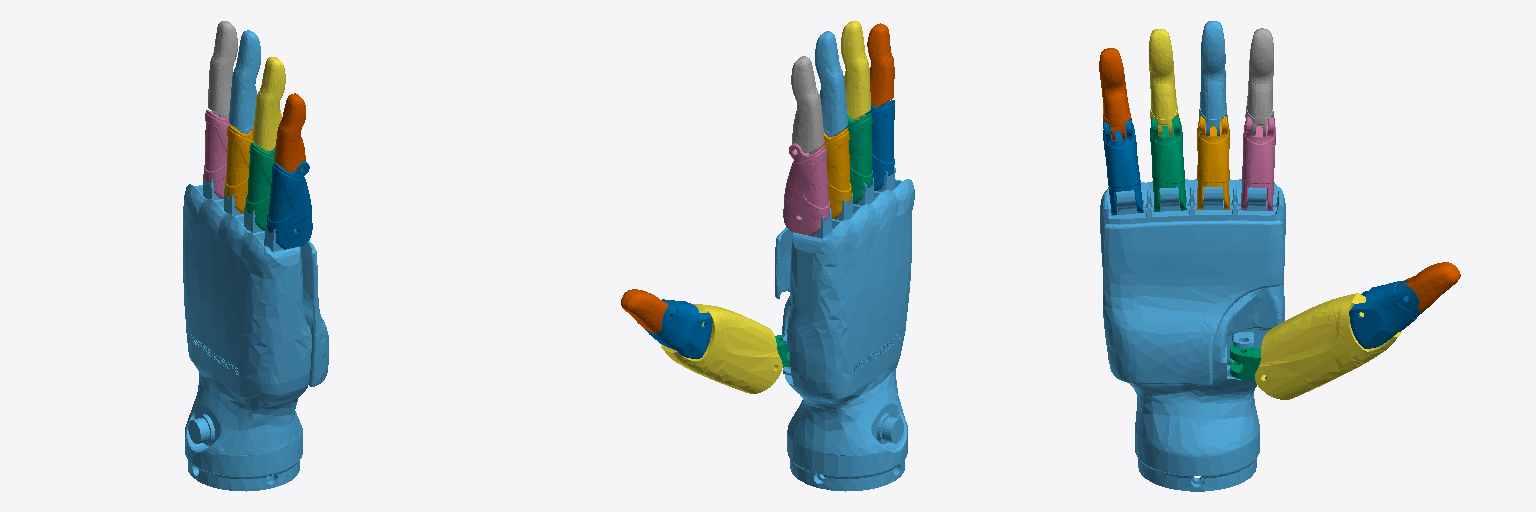
The robot description file, URDF, robot "inspire_hand_right":
<?xml version="1.0" encoding="utf-8"?>
<robot name="inspire_hand_right">
  <link name="base"/>
  <joint name="base_joint" type="fixed">
    <parent link="base"/>
    <child link="hand_base_link"/>
    <origin xyz="0 0 0" rpy="-1.57079 0 3.14159"/>
    <!-- <origin xyz="-0.04 0.01 0.0" rpy="0 1.14079 1.57079"/> -->
    <!-- <origin xyz="-0.05 0.01 0.0" rpy="3.14159 1.27079 -1.47079"/> -->
  </joint>
  <link name="hand_base_link">
    <parent link="base"/>
    <inertial>
      <origin xyz="-0.0025264 -0.066047 0.0019598" rpy="0 0 0"/>
      <mass value="0.14143"/>
      <inertia ixx="0.00012281" ixy="2.1711E-06" ixz="1.7709E-06" iyy="8.3832E-05" iyz="-1.6551E-06" izz="7.6663E-05"/>
    </inertial>
    <visual>
      <origin xyz="0 0 0" rpy="0 0 0"/>
      <geometry>
        <mesh filename="meshes/visual/right_base_link.obj"/>
      </geometry>
    </visual>
    <collision>
      <origin xyz="0 -0.0136 0" rpy="1.57079 0 0"/>
      <geometry>
        <cylinder length="0.0278" radius="0.028"/>
      </geometry>
    </collision>
    <collision>
      <origin xyz="-0.0032 -0.038 0" rpy="0 0 0"/>
      <geometry>
        <box size="0.0391 0.0202 0.0574"/>
      </geometry>
    </collision>
    <collision>
      <origin xyz="-0.0032 -0.0682 0" rpy="0 0 0"/>
      <geometry>
        <box size="0.0391 0.04 0.0814"/>
      </geometry>
    </collision>
    <collision>
      <origin xyz="0 -0.1081 0" rpy="0 0 0"/>
      <geometry>
        <box size="0.0322 0.04 0.0814"/>
      </geometry>
    </collision>
    <collision>
      <origin xyz="-0.0016 -0.1340 0.0309" rpy="0 0 0"/>
      <geometry>
        <box size="0.0125 0.0111 0.0089"/>
      </geometry>
    </collision>
    <collision>
      <origin xyz="-0.0016 -0.1340 0.0118" rpy="0 0 0"/>
      <geometry>
        <box size="0.0125 0.0111 0.0089"/>
      </geometry>
    </collision>
    <collision>
      <origin xyz="-0.0016 -0.1340 -0.0070" rpy="0 0 0"/>
      <geometry>
        <box size="0.0125 0.0111 0.0089"/>
      </geometry>
    </collision>
    <collision>
      <origin xyz="-0.0016 -0.1340 -0.0262" rpy="0 0 0"/>
      <geometry>
        <box size="0.0125 0.0111 0.0089"/>
      </geometry>
    </collision>
  </link>
  <link name="thumb_proximal_base">
    <inertial>
      <origin xyz="-0.0048064 0.0009382 -0.00757" rpy="0 0 0"/>
      <mass value="0.0018869"/>
      <inertia ixx="5.816E-08" ixy="1.4539E-08" ixz="4.491E-09" iyy="7.9161E-08" iyz="-1.8727E-09" izz="6.7433E-08"/>
    </inertial>
    <visual>
      <origin xyz="0 0 0" rpy="0 0 0"/>
      <geometry>
        <mesh filename="meshes/visual/right_thumb_proximal_base.obj"/>
      </geometry>
    </visual>
    <collision>
      <origin xyz="0 0 0" rpy="0 0 0"/>
      <geometry>
        <mesh filename="meshes/collision/right_thumb_proximal_base.obj"/>
      </geometry>
    </collision>
  </link>
  <joint name="thumb_proximal_yaw_joint" type="revolute">
    <origin xyz="-0.01696 -0.0691 -0.02045" rpy="1.5708 -1.5708 0"/>
    <parent link="hand_base_link"/>
    <child link="thumb_proximal_base"/>
    <axis xyz="0 0 -1"/>
    <limit lower="0.0" upper="1.308" effort="1" velocity="0.5"/>
  </joint>
  <link name="thumb_proximal">
    <inertial>
      <origin xyz="0.021932 0.012785 -0.0080386" rpy="0 0 0"/>
      <mass value="0.0066075"/>
      <inertia ixx="1.5686E-06" ixy="-7.8296E-07" ixz="8.9143E-10" iyy="1.7353E-06" iyz="-1.0191E-09" izz="2.786E-06"/>
    </inertial>
    <visual>
      <origin xyz="0 0 0" rpy="0 0 0"/>
      <geometry>
        <mesh filename="meshes/visual/right_thumb_proximal.obj"/>
      </geometry>
    </visual>
    <collision>
      <origin xyz="0 0 0" rpy="0 0 0"/>
      <geometry>
        <mesh filename="meshes/collision/right_thumb_proximal.obj"/>
      </geometry>
    </collision>
  </link>
  <joint name="thumb_proximal_pitch_joint" type="revolute">
    <origin xyz="-0.0088099 0.010892 -0.00925" rpy="1.5708 0 2.8587"/>
    <parent link="thumb_proximal_base"/>
    <child link="thumb_proximal"/>
    <axis xyz="0 0 1"/>
    <limit lower="0" upper="0.6" effort="1" velocity="0.5"/>
  </joint>
  <link name="thumb_intermediate">
    <inertial>
      <origin xyz="0.0095544 -0.0016282 -0.0071997" rpy="0 0 0"/>
      <mass value="0.0037847"/>
      <inertia ixx="3.6981E-07" ixy="-9.8581E-08" ixz="-4.7469E-12" iyy="3.2394E-07" iyz="1.0939E-12" izz="4.6531E-07"/>
    </inertial>
    <visual>
      <origin xyz="0 0 0" rpy="0 0 0"/>
      <geometry>
        <mesh filename="meshes/visual/right_thumb_intermediate.obj"/>
      </geometry>
    </visual>
    <collision>
      <origin xyz="0 0 0" rpy="0 0 0"/>
      <geometry>
        <mesh filename="meshes/collision/right_thumb_intermediate.obj"/>
      </geometry>
    </collision>
  </link>
  <joint name="thumb_intermediate_joint" type="revolute">
    <origin xyz="0.04407 0.034553 -0.0008" rpy="0 0 0"/>
    <parent link="thumb_proximal"/>
    <child link="thumb_intermediate"/>
    <axis xyz="0 0 1"/>
    <limit lower="0" upper="0.8" effort="1" velocity="0.5"/>
    <mimic joint="thumb_proximal_pitch_joint" multiplier="1.334" offset="0"/>
  </joint>
  <link name="thumb_distal">
    <inertial>
      <origin xyz="0.0092888 0.0049529 -0.0060033" rpy="0 0 0"/>
      <mass value="0.0033441"/>
      <inertia ixx="1.3632E-07" ixy="-5.6788E-08" ixz="-9.2764E-11" iyy="1.4052E-07" iyz="-1.2283E-10" izz="2.0026E-07"/>
    </inertial>
    <visual>
      <origin xyz="0 0 0" rpy="0 0 0"/>
      <geometry>
        <mesh filename="meshes/visual/right_thumb_distal.obj"/>
      </geometry>
    </visual>
    <collision>
      <origin xyz="0 0 0" rpy="0 0 0"/>
      <geometry>
        <mesh filename="meshes/collision/right_thumb_distal.obj"/>
      </geometry>
    </collision>
  </link>
  <joint name="thumb_distal_joint" type="revolute">
    <origin xyz="0.020248 0.010156 -0.0012" rpy="0 0 0"/>
    <parent link="thumb_intermediate"/>
    <child link="thumb_distal"/>
    <axis xyz="0 0 1"/>
    <limit lower="0" upper="0.4" effort="1" velocity="0.5"/>
    <mimic joint="thumb_proximal_pitch_joint" multiplier="0.667" offset="0"/>
  </joint>
  <link name="index_proximal">
    <inertial>
      <origin xyz="0.0012259 0.011942 -0.0060001" rpy="0 0 0"/>
      <mass value="0.0042403"/>
      <inertia ixx="6.6232E-07" ixy="-1.5775E-08" ixz="1.8515E-12" iyy="2.1146E-07" iyz="-5.0828E-12" izz="6.9398E-07"/>
    </inertial>
    <visual>
      <origin xyz="0 0 0" rpy="0 0 0"/>
      <geometry>
        <mesh filename="meshes/visual/right_index_proximal.obj"/>
      </geometry>
    </visual>
    <collision>
      <origin xyz="0 0 0" rpy="0 0 0"/>
      <geometry>
        <mesh filename="meshes/collision/right_index_proximal.obj"/>
      </geometry>
    </collision>
  </link>
  <joint name="index_proximal_joint" type="revolute">
    <origin xyz="0.00028533 -0.13653 -0.032268" rpy="-3.1067 0 0"/>
    <parent link="hand_base_link"/>
    <child link="index_proximal"/>
    <axis xyz="0 0 1"/>
    <limit lower="0" upper="1.47" effort="1" velocity="0.5"/>
  </joint>
  <link name="index_intermediate">
    <inertial>
      <origin xyz="0.0019697 0.019589 -0.005" rpy="0 0 0"/>
      <mass value="0.0045683"/>
      <inertia ixx="7.6111E-07" ixy="8.7637E-08" ixz="-3.7751E-13" iyy="9.6076E-08" iyz="9.9444E-13" izz="7.8179E-07"/>
    </inertial>
    <visual>
      <origin xyz="0 0 0" rpy="0 0 0"/>
      <geometry>
        <mesh filename="meshes/visual/right_index_intermediate.obj"/>
      </geometry>
    </visual>
    <collision>
      <origin xyz="0 0 0" rpy="0 0 0"/>
      <geometry>
        <mesh filename="meshes/collision/right_index_intermediate.obj"/>
      </geometry>
    </collision>
  </link>
  <joint name="index_intermediate_joint" type="revolute">
    <origin xyz="-0.0026138 0.032026 -0.001" rpy="0 0 0"/>
    <parent link="index_proximal"/>
    <child link="index_intermediate"/>
    <axis xyz="0 0 1"/>
    <limit lower="-0.04545" upper="1.56" effort="1" velocity="0.5"/>
    <mimic joint="index_proximal_joint" multiplier="1.06399" offset="-0.04545"/>
  </joint>
  <link name="middle_proximal">
    <inertial>
      <origin xyz="0.001297 0.011934 -0.0060001" rpy="0 0 0"/>
      <mass value="0.0042403"/>
      <inertia ixx="6.6211E-07" ixy="-1.8461E-08" ixz="1.8002E-12" iyy="2.1167E-07" iyz="-6.6808E-12" izz="6.9397E-07"/>
    </inertial>
    <visual>
      <origin xyz="0 0 0" rpy="0 0 0"/>
      <geometry>
        <mesh filename="meshes/visual/right_index_proximal.obj"/>
      </geometry>
    </visual>
    <collision>
      <origin xyz="0 0 0" rpy="0 0 0"/>
      <geometry>
        <mesh filename="meshes/collision/right_index_proximal.obj"/>
      </geometry>
    </collision>
  </link>
  <joint name="middle_proximal_joint" type="revolute">
    <origin xyz="0.00028533 -0.1371 -0.01295" rpy="-3.1416 0 0"/>
    <parent link="hand_base_link"/>
    <child link="middle_proximal"/>
    <axis xyz="0 0 1"/>
    <limit lower="0" upper="1.47" effort="1" velocity="0.5"/>
  </joint>
  <link name="middle_intermediate">
    <inertial>
      <origin xyz="0.001921 0.020796 -0.005" rpy="0 0 0"/>
      <mass value="0.0050396"/>
      <inertia ixx="9.5822E-07" ixy="1.1425E-07" ixz="-2.4791E-12" iyy="1.0646E-07" iyz="5.9173E-12" izz="9.8384E-07"/>
    </inertial>
    <visual>
      <origin xyz="0 0 0" rpy="0 0 0"/>
      <geometry>
        <mesh filename="meshes/visual/right_middle_intermediate.obj"/>
      </geometry>
    </visual>
    <collision>
      <origin xyz="0 0 0" rpy="0 0 0"/>
      <geometry>
        <mesh filename="meshes/collision/right_middle_intermediate.obj"/>
      </geometry>
    </collision>
  </link>
  <joint name="middle_intermediate_joint" type="revolute">
    <origin xyz="-0.0024229 0.032041 -0.001" rpy="0 0 0"/>
    <parent link="middle_proximal"/>
    <child link="middle_intermediate"/>
    <axis xyz="0 0 1"/>
    <limit lower="-0.04545" upper="1.56" effort="1" velocity="0.5"/>
    <mimic joint="middle_proximal_joint" multiplier="1.06399" offset="-0.04545"/>
  </joint>
  <link name="ring_proximal">
    <inertial>
      <origin xyz="0.001297 0.011934 -0.0060002" rpy="0 0 0"/>
      <mass value="0.0042403"/>
      <inertia ixx="6.6211E-07" ixy="-1.8461E-08" ixz="1.5793E-12" iyy="2.1167E-07" iyz="-6.6868E-12" izz="6.9397E-07"/>
    </inertial>
    <visual>
      <origin xyz="0 0 0" rpy="0 0 0"/>
      <geometry>
        <mesh filename="meshes/visual/right_index_proximal.obj"/>
      </geometry>
    </visual>
    <collision>
      <origin xyz="0 0 0" rpy="0 0 0"/>
      <geometry>
        <mesh filename="meshes/collision/right_index_proximal.obj"/>
      </geometry>
    </collision>
  </link>
  <joint name="ring_proximal_joint" type="revolute">
    <origin xyz="0.00028533 -0.13691 0.0062872" rpy="3.0892 0 0"/>
    <parent link="hand_base_link"/>
    <child link="ring_proximal"/>
    <axis xyz="0 0 1"/>
    <limit lower="0" upper="1.47" effort="1" velocity="0.5"/>
  </joint>
  <link name="ring_intermediate">
    <inertial>
      <origin xyz="0.0021753 0.019567 -0.005" rpy="0 0 0"/>
      <mass value="0.0045683"/>
      <inertia ixx="7.6286E-07" ixy="8.0635E-08" ixz="-6.1562E-13" iyy="9.431E-08" iyz="5.8619E-13" izz="7.8177E-07"/>
    </inertial>
    <visual>
      <origin xyz="0 0 0" rpy="0 0 0"/>
      <geometry>
        <mesh filename="meshes/visual/right_index_intermediate.obj"/>
      </geometry>
    </visual>
    <collision>
      <origin xyz="0 0 0" rpy="0 0 0"/>
      <geometry>
        <mesh filename="meshes/collision/right_index_intermediate.obj"/>
      </geometry>
    </collision>
  </link>
  <joint name="ring_intermediate_joint" type="revolute">
    <origin xyz="-0.0024229 0.032041 -0.001" rpy="0 0 0"/>
    <parent link="ring_proximal"/>
    <child link="ring_intermediate"/>
    <axis xyz="0 0 1"/>
    <limit lower="-0.04545" upper="1.56" effort="1" velocity="0.5"/>
    <mimic joint="ring_proximal_joint" multiplier="1.06399" offset="-0.04545"/>
  </joint>
  <link name="pinky_proximal">
    <inertial>
      <origin xyz="0.001297 0.011934 -0.0060001" rpy="0 0 0"/>
      <mass value="0.0042403"/>
      <inertia ixx="6.6211E-07" ixy="-1.8461E-08" ixz="1.6907E-12" iyy="2.1167E-07" iyz="-6.9334E-12" izz="6.9397E-07"/>
    </inertial>
    <visual>
      <origin xyz="0 0 0" rpy="0 0 0"/>
      <geometry>
        <mesh filename="meshes/visual/right_index_proximal.obj"/>
      </geometry>
    </visual>
    <collision>
      <origin xyz="0 0 0" rpy="0 0 0"/>
      <geometry>
        <mesh filename="meshes/collision/right_index_proximal.obj"/>
      </geometry>
    </collision>
  </link>
  <joint name="pinky_proximal_joint" type="revolute">
    <origin xyz="0.00028533 -0.13571 0.025488" rpy="3.0369 0 0"/>
    <parent link="hand_base_link"/>
    <child link="pinky_proximal"/>
    <axis xyz="0 0 1"/>
    <limit lower="0" upper="1.47" effort="1" velocity="0.5"/>
  </joint>
  <link name="pinky_intermediate">
    <inertial>
      <origin xyz="0.0024748 0.016203 -0.0050031" rpy="0 0 0"/>
      <mass value="0.0035996"/>
      <inertia ixx="4.3913E-07" ixy="4.1418E-08" ixz="3.7168E-11" iyy="7.0247E-08" iyz="5.8613E-11" izz="4.4867E-07"/>
    </inertial>
    <visual>
      <origin xyz="0 0 0" rpy="0 0 0"/>
      <geometry>
        <mesh filename="meshes/visual/right_pinky_intermediate.obj"/>
      </geometry>
    </visual>
    <collision>
      <origin xyz="0 0 0" rpy="0 0 0"/>
      <geometry>
        <mesh filename="meshes/collision/right_pinky_intermediate.obj"/>
      </geometry>
    </collision>
  </link>
  <joint name="pinky_intermediate_joint" type="revolute">
    <origin xyz="-0.0024229 0.032041 -0.001" rpy="0 0 0"/>
    <parent link="pinky_proximal"/>
    <child link="pinky_intermediate"/>
    <axis xyz="0 0 1"/>
    <limit lower="-0.04545" upper="1.56" effort="1" velocity="0.5"/>
    <mimic joint="pinky_proximal_joint" multiplier="1.06399" offset="-0.04545"/>
  </joint>

  <link name='thumb_tip'/>
  <joint name="thumb_tip_joint" type="fixed">
    <origin xyz="0.0202 0.0140 -0.006" rpy="0 0 0"/>
    <parent link="thumb_distal"/>
    <child link="thumb_tip"/>
  </joint>
  <link name='index_tip'/>
  <joint name="index_tip_joint" type="fixed">
    <origin xyz="-0.0008 0.045 -0.005" rpy="0 0 0"/>
    <parent link="index_intermediate"/>
    <child link="index_tip"/>
  </joint>
  <link name='middle_tip'/>
  <joint name="middle_tip_joint" type="fixed">
    <origin xyz="-0.001 0.048 -0.005" rpy="0 0 0"/>
    <parent link="middle_intermediate"/>
    <child link="middle_tip"/>
  </joint>
  <link name='ring_tip'/>
  <joint name="ring_tip_joint" type="fixed">
    <origin xyz="-0.0008 0.045 -0.005" rpy="0 0 0"/>
    <parent link="ring_intermediate"/>
    <child link="ring_tip"/>
  </joint>
  <link name='pinky_tip'/>
  <joint name="pinky_tip_joint" type="fixed">
    <origin xyz="-0.0008 0.037 -0.005" rpy="0 0 0"/>
    <parent link="pinky_intermediate"/>
    <child link="pinky_tip"/>
  </joint>
</robot>

--- What the picture shows (computed from the rendered views, not written in the file) ---
The picture shows the robot from 3 angles, left to right: view 1: azimuth 30°, elevation 25°; view 2: azimuth 150°, elevation 25°; view 3: azimuth 270°, elevation 25°; orthographic projection.
Model inspire_hand_right with 19 links and 18 joints (12 revolute, 6 fixed), rooted at base, posed every joint at zero.
Visible links, largest first — view 1: hand_base_link, pinky_proximal, middle_intermediate, ring_intermediate, index_intermediate, pinky_intermediate, ring_proximal, middle_proximal, index_proximal; view 2: hand_base_link, thumb_proximal, index_proximal, thumb_intermediate, middle_intermediate, index_intermediate, ring_intermediate, pinky_intermediate, ring_proximal, middle_proximal, pinky_proximal, thumb_distal; view 3: hand_base_link, thumb_proximal, thumb_intermediate, middle_intermediate, ring_intermediate, index_intermediate, ring_proximal, index_proximal, pinky_proximal, middle_proximal, pinky_intermediate, thumb_distal (+1 smaller).
Link boxes in pixels (left/top/right/bottom): hand_base_link: left=183, top=174, right=328, bottom=491; pinky_proximal: left=267, top=161, right=312, bottom=249; middle_intermediate: left=229, top=30, right=260, bottom=133; ring_intermediate: left=252, top=57, right=285, bottom=150; index_intermediate: left=208, top=21, right=237, bottom=116; pinky_intermediate: left=274, top=93, right=305, bottom=172; ring_proximal: left=246, top=142, right=275, bottom=230; middle_proximal: left=225, top=125, right=253, bottom=213; index_proximal: left=204, top=110, right=231, bottom=198; hand_base_link: left=775, top=166, right=914, bottom=491; thumb_proximal: left=661, top=304, right=782, bottom=393; index_proximal: left=783, top=143, right=829, bottom=235; thumb_intermediate: left=645, top=299, right=712, bottom=358; middle_intermediate: left=815, top=31, right=847, bottom=136; index_intermediate: left=791, top=56, right=824, bottom=153; ring_intermediate: left=841, top=21, right=870, bottom=119; pinky_intermediate: left=867, top=23, right=894, bottom=106; ring_proximal: left=845, top=113, right=872, bottom=203; middle_proximal: left=822, top=128, right=851, bottom=218; pinky_proximal: left=866, top=100, right=894, bottom=190; thumb_distal: left=621, top=289, right=670, bottom=333; hand_base_link: left=1100, top=179, right=1285, bottom=491; thumb_proximal: left=1255, top=293, right=1401, bottom=399; thumb_intermediate: left=1349, top=279, right=1422, bottom=348; middle_intermediate: left=1199, top=21, right=1227, bottom=135; ring_intermediate: left=1149, top=29, right=1178, bottom=136; index_intermediate: left=1245, top=28, right=1273, bottom=136; ring_proximal: left=1150, top=117, right=1186, bottom=211; index_proximal: left=1241, top=116, right=1275, bottom=210; pinky_proximal: left=1103, top=119, right=1143, bottom=214; middle_proximal: left=1197, top=116, right=1229, bottom=209; pinky_intermediate: left=1099, top=48, right=1131, bottom=140; thumb_distal: left=1402, top=262, right=1460, bottom=312.
Size in the robot's own frame: 0.0816 by 0.1581 by 0.218 metres.
Meshes: 9 distinct files referenced, 13 mesh visuals loaded (9 OBJ).
